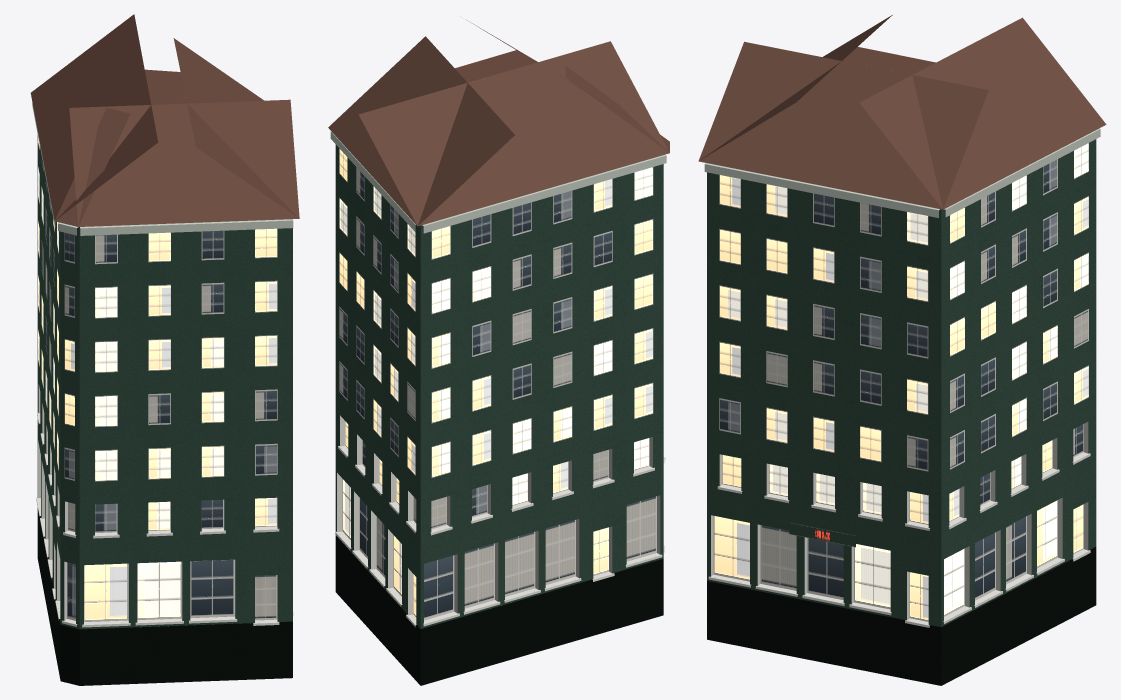
The model's file is langC_spaccio.glb.
The picture shows the model from 3 angles, left to right: view 1: azimuth 30°, elevation 25°; view 2: azimuth 150°, elevation 25°; view 3: azimuth 270°, elevation 25°; orthographic projection. The views are drawn at different scales.
Visible parts, largest first — view 1: langC_spaccio; view 2: langC_spaccio; view 3: langC_spaccio.
Part boxes in pixels (x1,y1,x2,y2): langC_spaccio: [30, 14, 299, 685]; langC_spaccio: [328, 20, 669, 685]; langC_spaccio: [698, 15, 1106, 685].
Bounding box in the file's own units: 15.63 × 28.49 × 18.89.
Materials: 3 (3 with a texture image).
